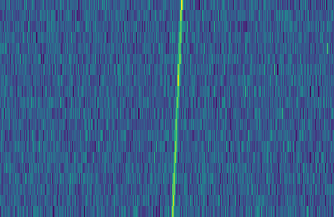signal: (167, 0, 186, 217)
